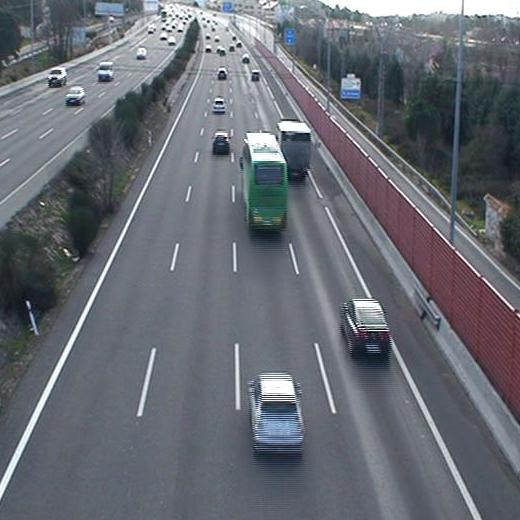bus: (241, 134, 287, 231)
car: (247, 375, 305, 455), (339, 298, 391, 359), (213, 131, 231, 156), (214, 96, 226, 113), (217, 67, 226, 80), (251, 69, 259, 79)
small-truck: (281, 121, 310, 177)
